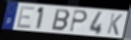1: (35, 7, 46, 30)
4: (89, 10, 103, 36)
B: (50, 8, 71, 32)
E: (15, 6, 36, 30)
K: (106, 13, 124, 37)
P: (68, 9, 89, 33)
